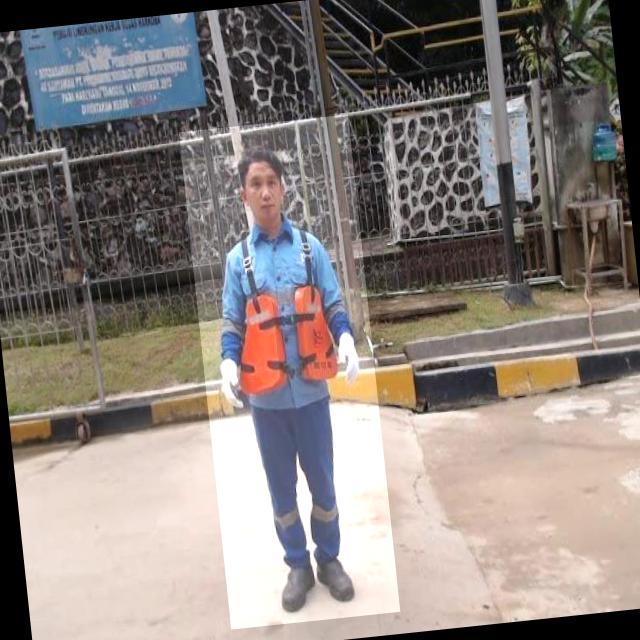Gloves: (210, 349, 252, 412), (330, 326, 369, 389)
Person: (189, 124, 393, 623)
Safety Boot: (277, 552, 320, 616), (316, 549, 360, 607)
Safety Vest: (230, 284, 341, 396)
no-helmet: (228, 144, 286, 181)
